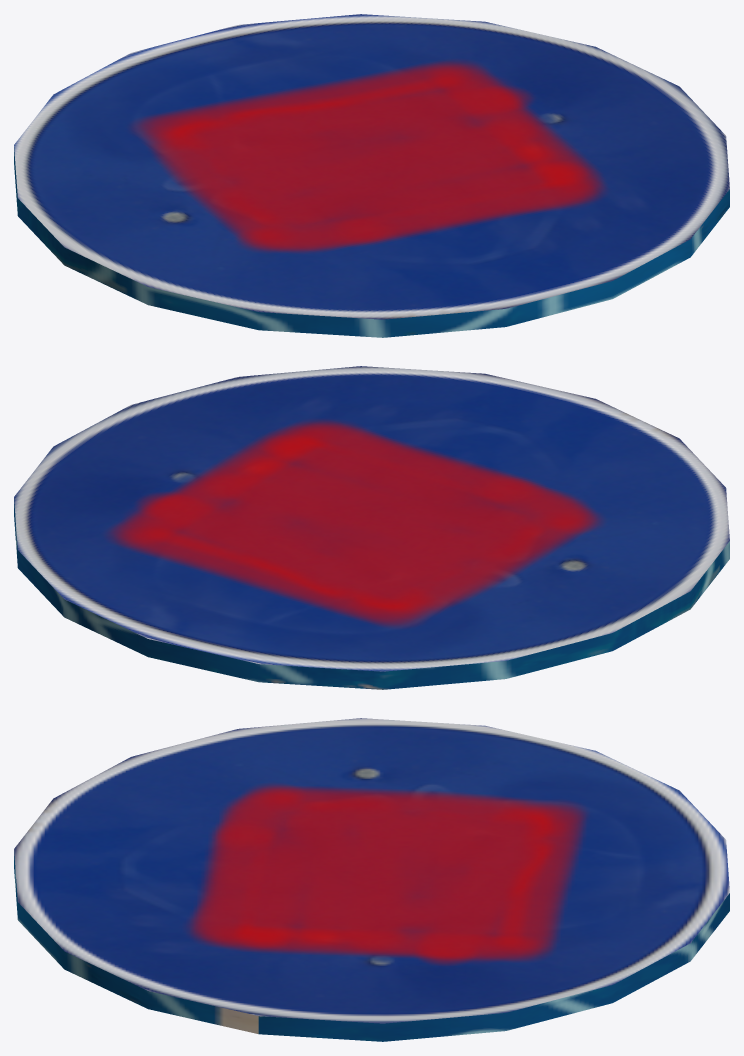
The model's file is Sign_Red.FBX.
3 renders of one model, top to bottom at view 1: azimuth 30°, elevation 25°; view 2: azimuth 150°, elevation 25°; view 3: azimuth 270°, elevation 25°, orthographic.
Visible parts, largest first — view 1: Sign_Red; view 2: Sign_Red; view 3: Sign_Red.
Part boxes in pixels (x1,y1,x2,y2): Sign_Red: (14,14,729,337); Sign_Red: (14,366,729,689); Sign_Red: (14,718,729,1041).
Bounding box in the file's own units: 46.45 × 1.29 × 46.
Materials: 1 (1 with a texture image).
